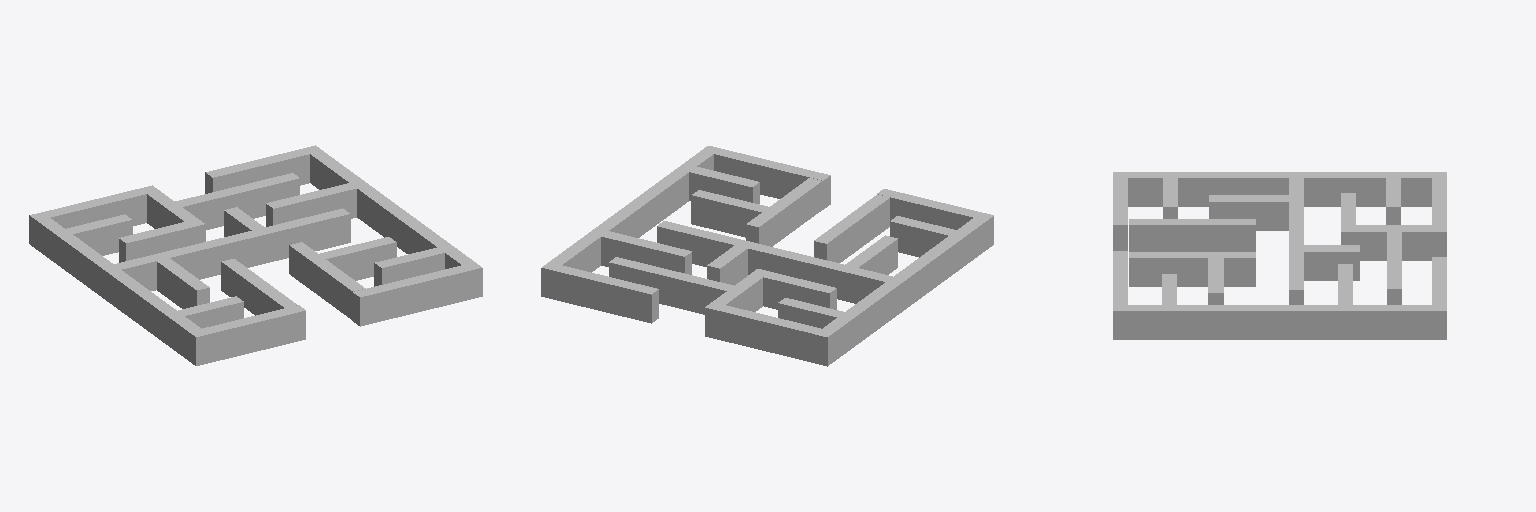
The model's file is maze.obj.
3 renders of one model, left to right at view 1: azimuth 30°, elevation 25°; view 2: azimuth 150°, elevation 25°; view 3: azimuth 270°, elevation 25°, orthographic.
Visible parts, largest first — view 1: Cube.013_Cube.015, Cube.001, Cube.003, Cube, Cube.004, Cube.018_Cube.022, Cube.008_Cube.009, Cube.005_Cube.006, Cube.002_Cube.005, Cube.015_Cube.020, Cube.007_Cube.008, Cube.012_Cube.014 (+7 smaller); view 2: Cube.001, Cube.013_Cube.015, Cube.003, Cube.005_Cube.006, Cube.002_Cube.005, Cube.018_Cube.022, Cube, Cube.007_Cube.008, Cube.008_Cube.009, Cube.016_Cube.018, Cube.015_Cube.020, Cube.004 (+7 smaller); view 3: Cube.003, Cube.001, Cube.007_Cube.008, Cube.008_Cube.009, Cube.014_Cube.016, Cube.011_Cube.013, Cube.013_Cube.015, Cube.017_Cube.021, Cube.005_Cube.006, Cube.004, Cube.002_Cube.005, Cube.018_Cube.022 (+6 smaller).
Part boxes in pixels (left/top/right/bottom): Cube.013_Cube.015: left=103, top=208, right=350, bottom=290; Cube.001: left=29, top=212, right=200, bottom=360; Cube.003: left=310, top=151, right=482, bottom=299; Cube: left=352, top=265, right=469, bottom=326; Cube.004: left=189, top=305, right=305, bottom=365; Cube.018_Cube.022: left=167, top=173, right=299, bottom=229; Cube.008_Cube.009: left=289, top=242, right=365, bottom=319; Cube.005_Cube.006: left=205, top=145, right=322, bottom=193; Cube.002_Cube.005: left=43, top=185, right=159, bottom=228; Cube.015_Cube.020: left=266, top=183, right=365, bottom=226; Cube.007_Cube.008: left=221, top=259, right=296, bottom=315; Cube.012_Cube.014: left=119, top=219, right=205, bottom=262; Cube.001: left=815, top=218, right=986, bottom=366; Cube.013_Cube.015: left=657, top=221, right=903, bottom=303; Cube.003: left=550, top=146, right=720, bottom=272; Cube.005_Cube.006: left=541, top=262, right=658, bottom=323; Cube.002_Cube.005: left=705, top=303, right=821, bottom=362; Cube.018_Cube.022: left=609, top=257, right=737, bottom=314; Cube: left=714, top=149, right=830, bottom=209; Cube.007_Cube.008: left=814, top=194, right=889, bottom=262; Cube.008_Cube.009: left=746, top=178, right=822, bottom=246; Cube.016_Cube.018: left=691, top=190, right=777, bottom=237; Cube.015_Cube.020: left=595, top=229, right=691, bottom=274; Cube.004: left=877, top=189, right=993, bottom=249; Cube.003: left=1113, top=305, right=1431, bottom=339; Cube.001: left=1128, top=172, right=1446, bottom=206; Cube.007_Cube.008: left=1129, top=219, right=1255, bottom=251; Cube.008_Cube.009: left=1129, top=252, right=1255, bottom=286; Cube.014_Cube.016: left=1209, top=195, right=1297, bottom=230; Cube.011_Cube.013: left=1354, top=225, right=1442, bottom=260; Cube.013_Cube.015: left=1289, top=176, right=1303, bottom=304; Cube.017_Cube.021: left=1298, top=245, right=1359, bottom=280; Cube.005_Cube.006: left=1432, top=257, right=1446, bottom=339; Cube.004: left=1113, top=172, right=1127, bottom=250; Cube.002_Cube.005: left=1432, top=178, right=1446, bottom=256; Cube.018_Cube.022: left=1387, top=232, right=1401, bottom=304.
Size of the model in its own units: 20.61 by 2 by 20.82.